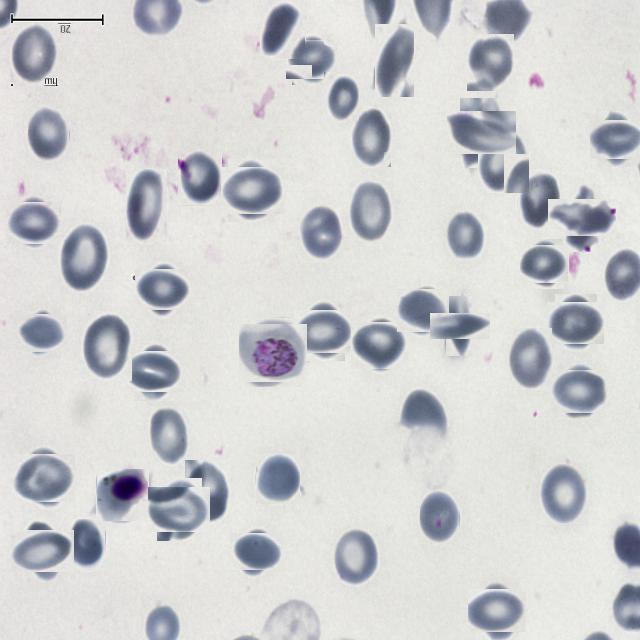leukocyte: (96, 469, 148, 522)
red blood cell: (60, 222, 109, 293), (82, 312, 132, 381), (478, 129, 530, 194), (224, 162, 280, 218), (16, 450, 72, 506), (126, 169, 168, 243), (454, 104, 509, 160), (10, 23, 58, 86), (540, 464, 588, 526), (375, 24, 415, 98), (16, 524, 70, 578), (152, 482, 206, 536), (185, 460, 230, 524), (349, 181, 394, 245), (467, 34, 515, 92), (509, 328, 553, 391), (333, 527, 379, 587), (353, 319, 405, 372), (556, 192, 608, 244), (260, 2, 306, 60), (472, 585, 523, 636), (298, 306, 350, 356), (148, 405, 190, 466), (554, 366, 604, 417), (300, 205, 344, 262), (551, 298, 601, 348), (130, 346, 179, 396), (518, 171, 560, 229), (178, 151, 222, 206), (138, 266, 188, 314), (352, 108, 392, 168), (28, 106, 70, 162), (10, 198, 58, 246), (400, 286, 448, 334), (256, 454, 300, 504), (594, 116, 640, 163), (400, 390, 446, 437), (420, 491, 460, 545), (233, 528, 279, 574), (288, 36, 334, 82), (446, 209, 485, 261), (68, 519, 106, 570), (523, 242, 567, 286), (20, 311, 64, 355), (438, 304, 482, 348), (324, 72, 359, 123)
trophozoite: (242, 320, 304, 384)
